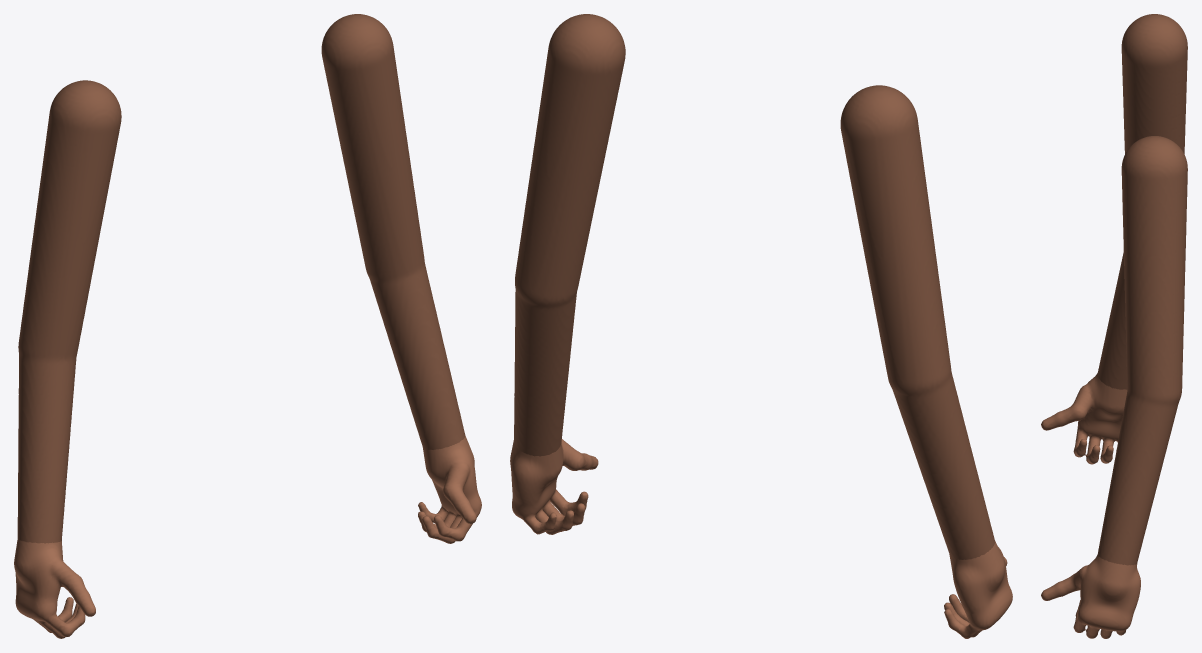
Rendered from hands-clenched.glb.
3 views of the same model, side by side, from view 1: azimuth 30°, elevation 25°; view 2: azimuth 150°, elevation 25°; view 3: azimuth 270°, elevation 25° (orthographic). The views are drawn at different scales.
Parts seen in each view (by area): view 1: arms, hands; view 2: arms, hands; view 3: arms, hands.
Boxes of the visible parts, x1,y1,x2,y2 form: arms: (17,14,465,543); hands: (14,436,481,638); arms: (514,14,994,559); hands: (510,439,1012,638); arms: (1097,14,1187,565); hands: (1041,373,1140,638).
Size of the model in its own units: 0.6674 by 0.724 by 0.2035.
